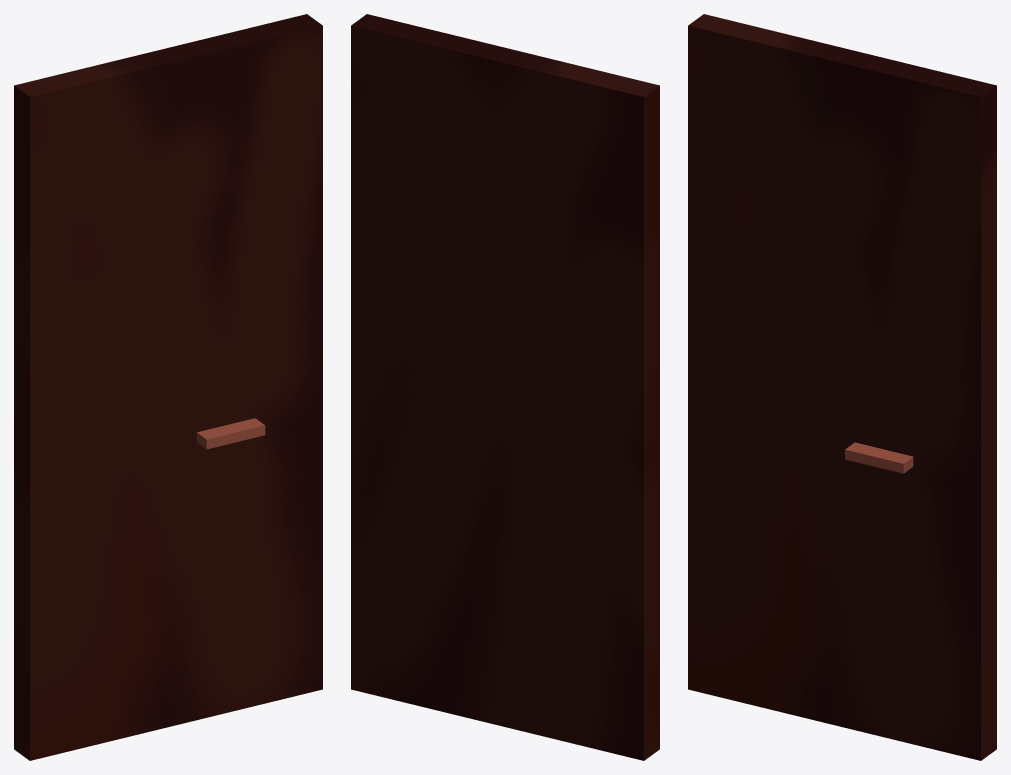
Rendered from дверь.dae.
The picture shows the model from 3 angles, left to right: view 1: azimuth 30°, elevation 25°; view 2: azimuth 150°, elevation 25°; view 3: azimuth 330°, elevation 25°; orthographic projection.
Visible parts, largest first — view 1: Cube, Куб; view 2: Cube; view 3: Cube, Куб.
Part boxes in pixels (x1,y1,x2,y2): Cube: (14, 14, 322, 760); Куб: (196, 418, 265, 449); Cube: (351, 14, 659, 760); Cube: (688, 14, 996, 760); Куб: (845, 442, 913, 473).
Size of the model in its own units: 2 by 0.3045 by 4.33.
